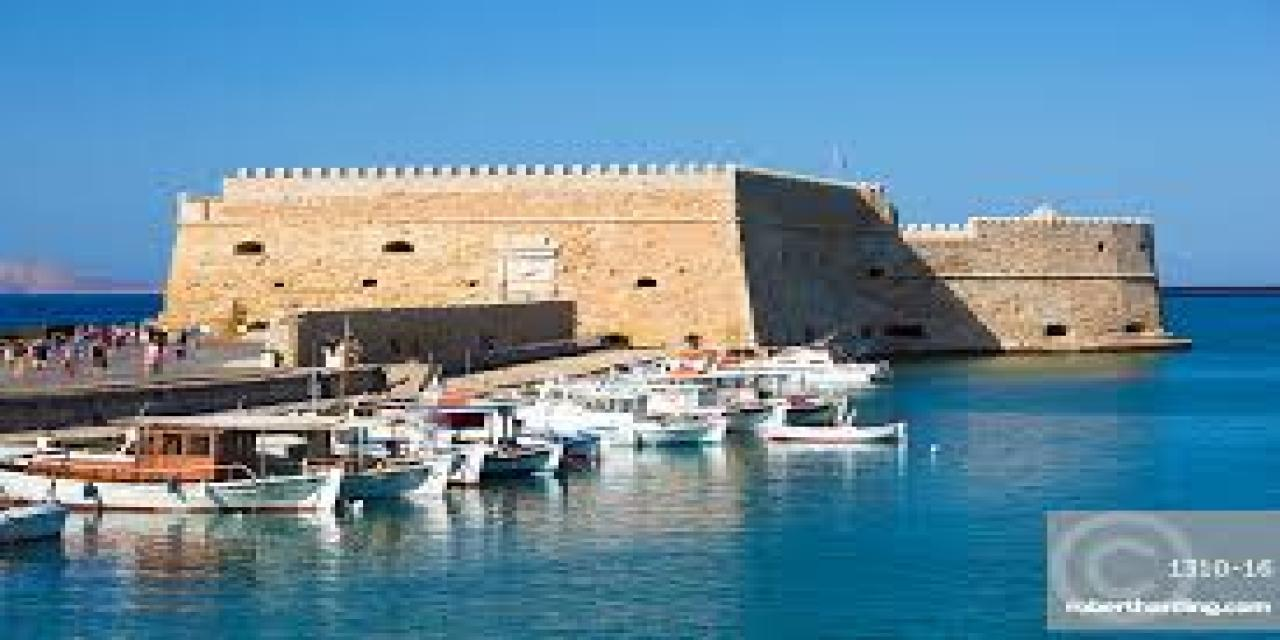Kules: (165, 146, 1195, 355)
